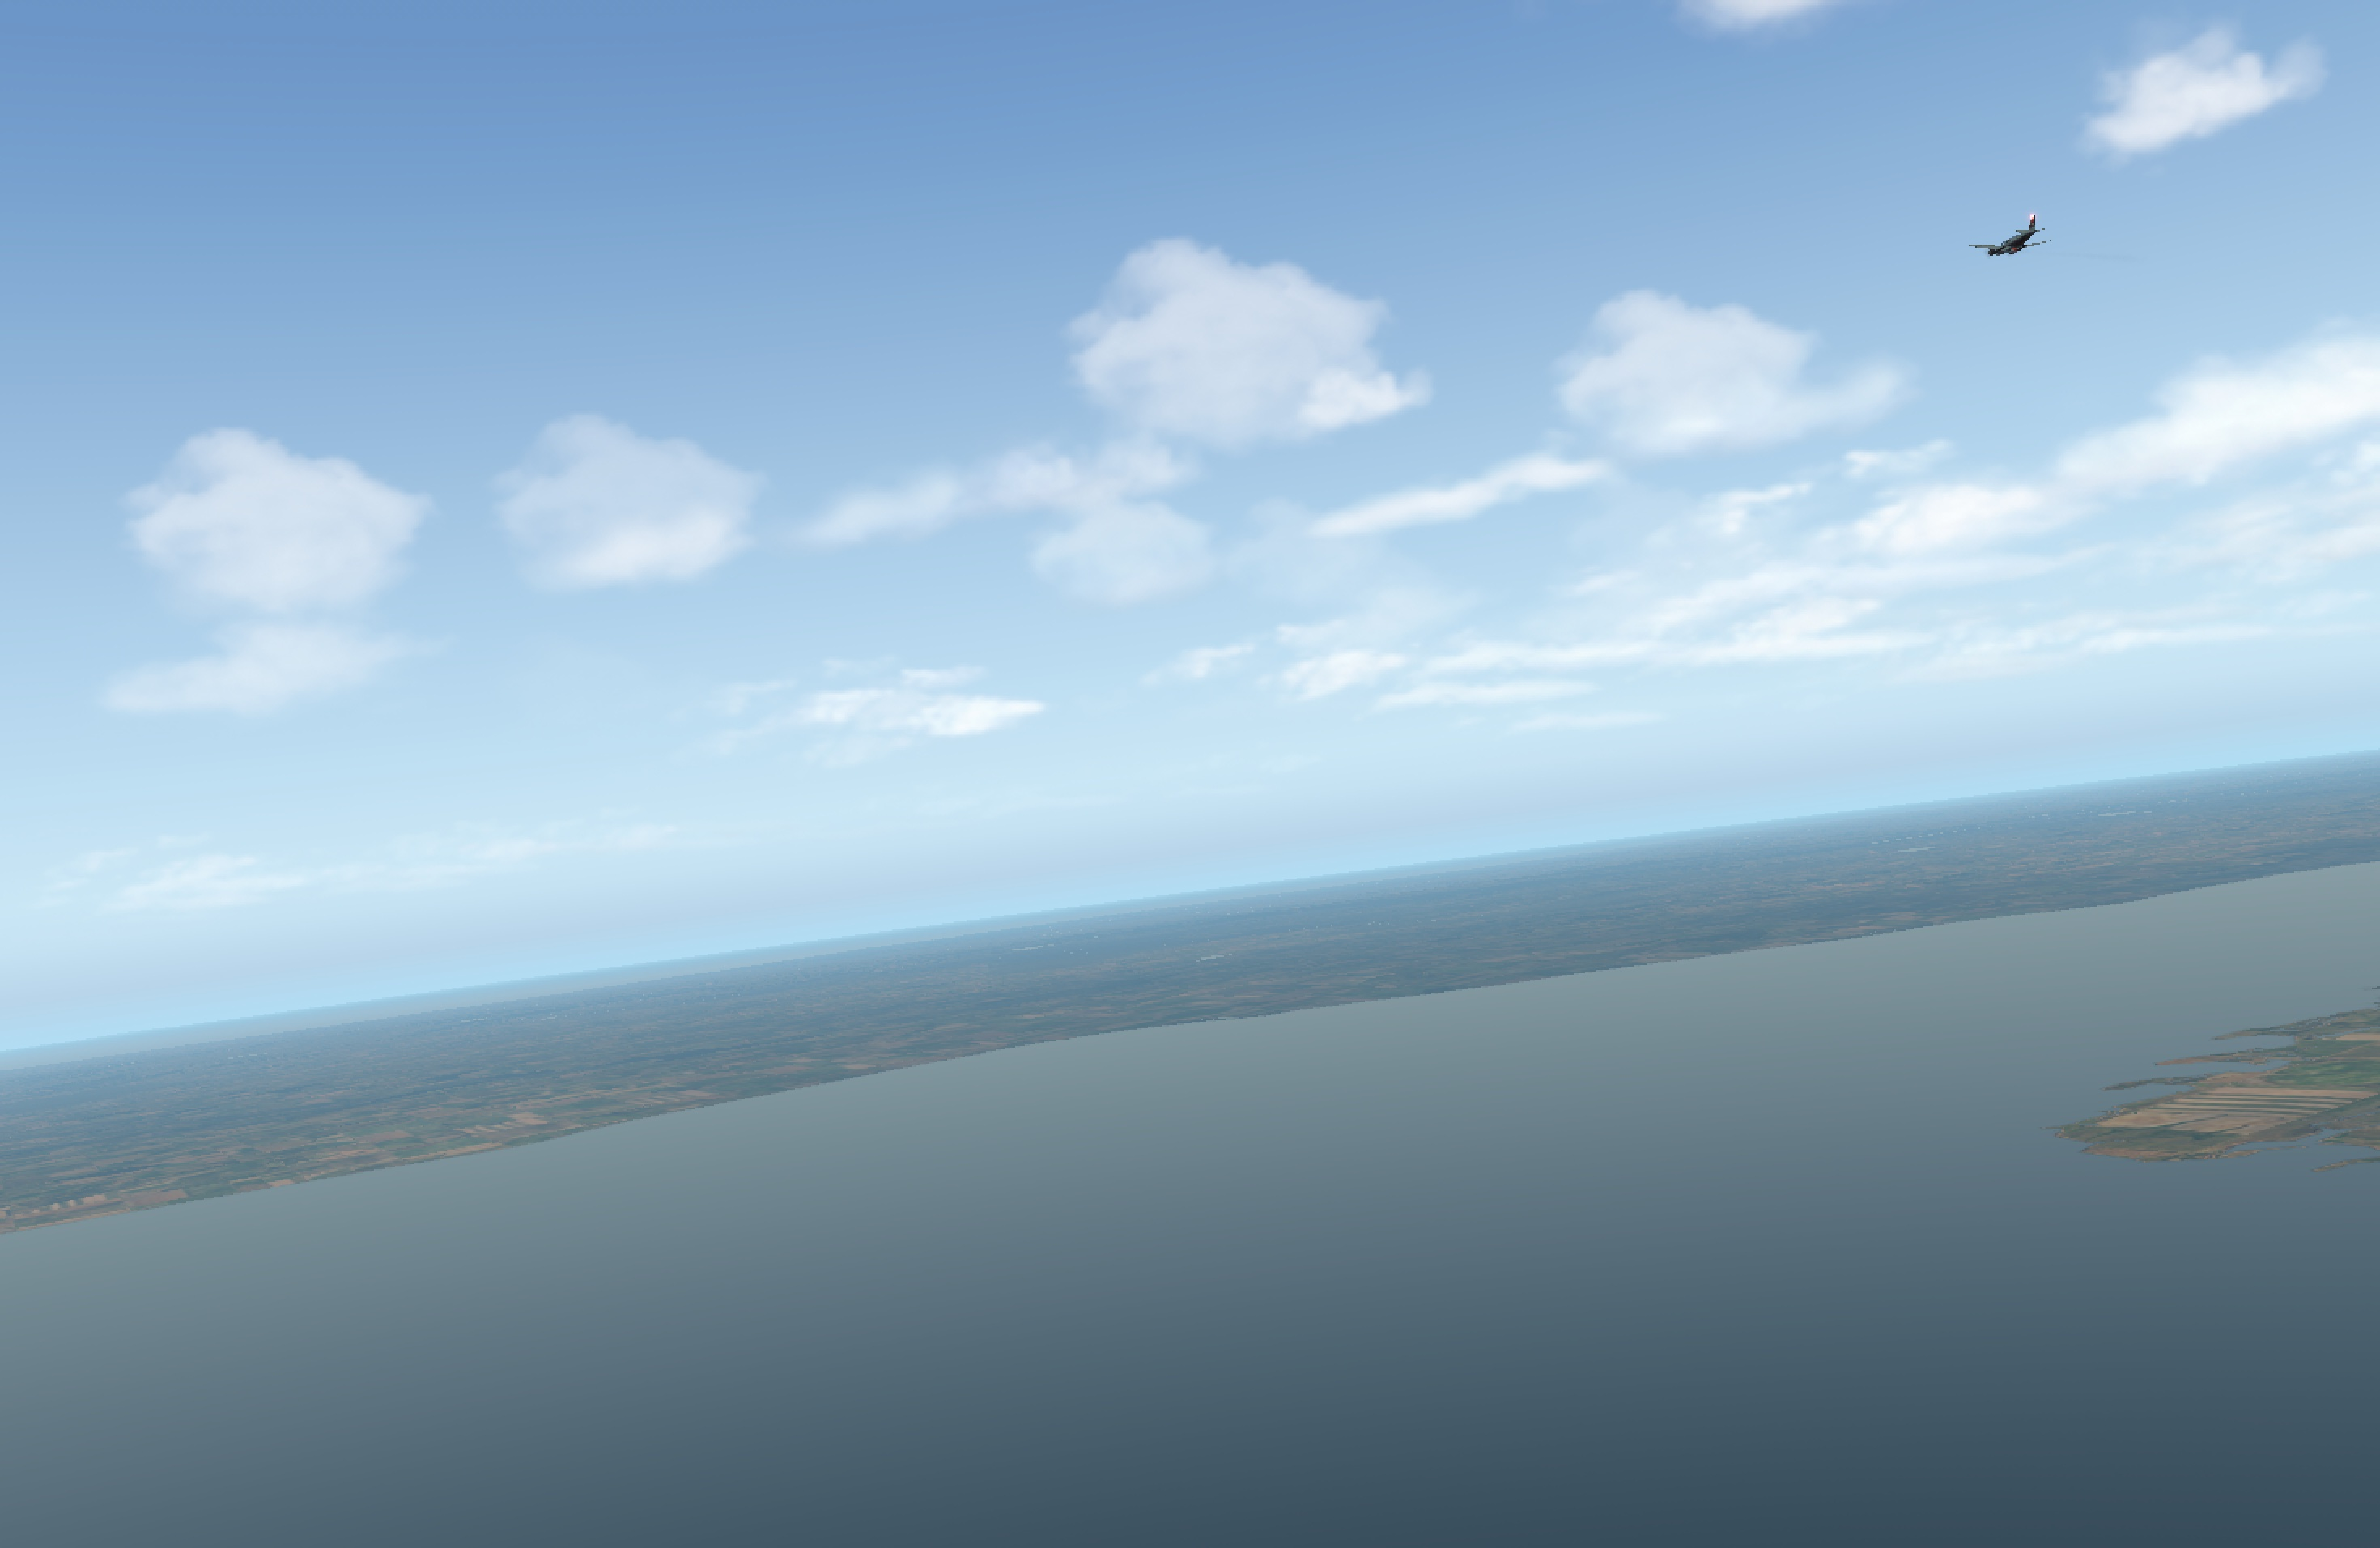aircraft: (1965, 234, 2054, 266)
